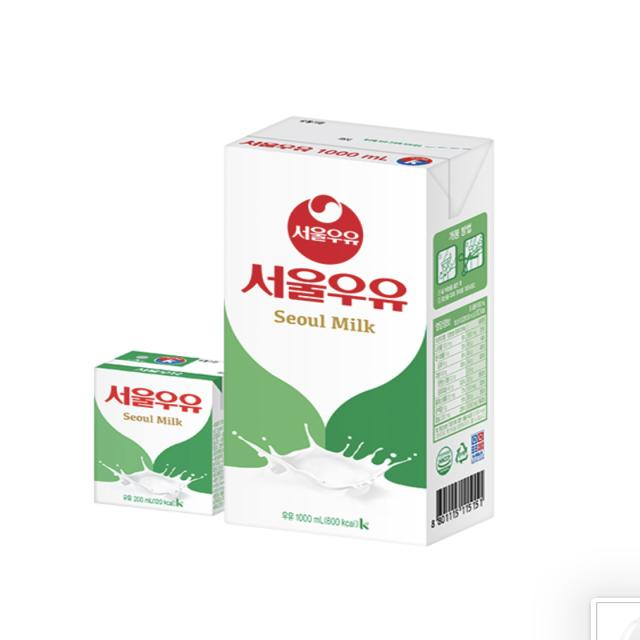biodegradable: (204, 90, 522, 569), (69, 315, 227, 518)
